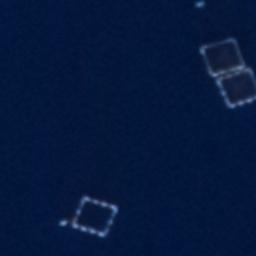square_solid: (67, 191, 122, 241), (195, 33, 249, 79), (212, 62, 256, 113)
